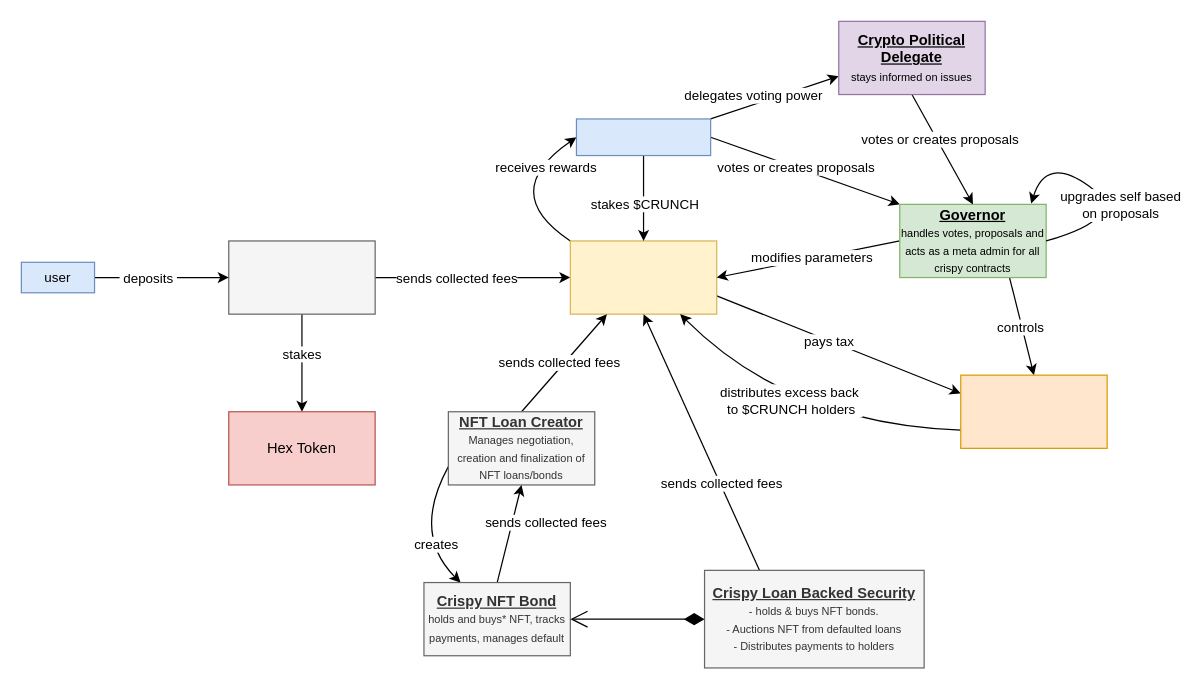
This 1202x689 diagram has some shape labels left out. The shapes that lost their labels are listed below. From the top down, each one's centre as x and y in pixels, then its label:
At pixel 643 137: "$CRUNCH holder".
At pixel 301 277: "Crispy Hex Staker stakes hex and tokenizes said stakes".
At pixel 643 277: "Crispy Staker stakes $CRUNCH and rewards users with rewards".
At pixel 1033 411: "Treasury stores funds and funds proposals".
